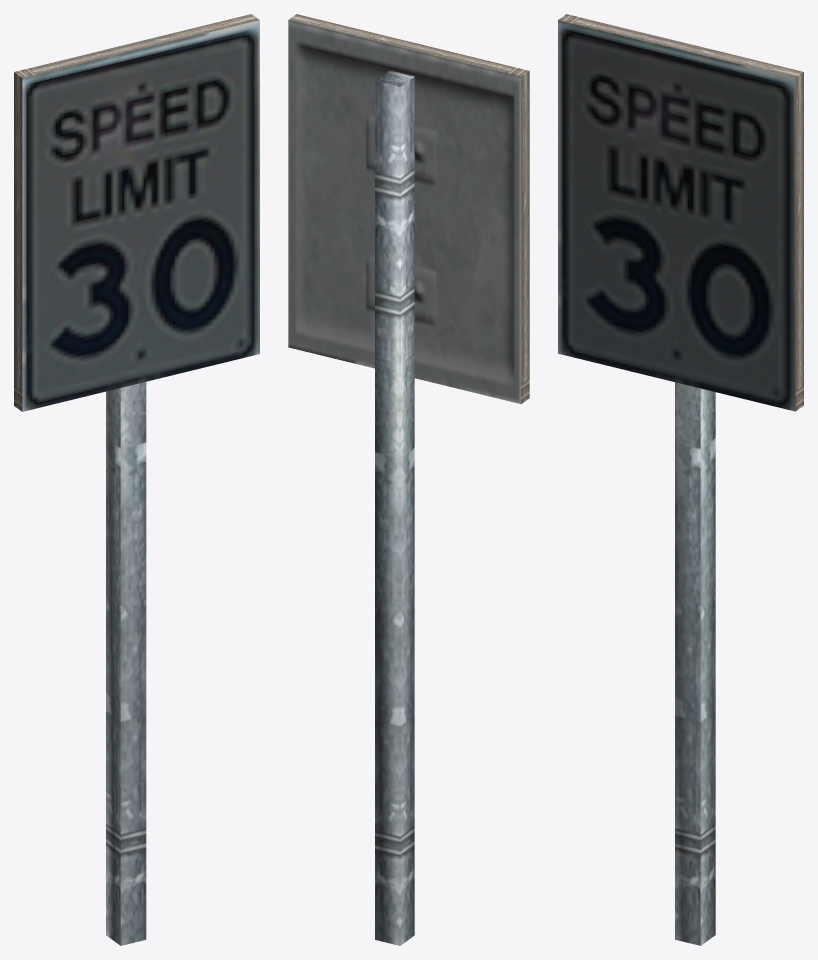
Rendered from Model_StreetSign_14.fbx.
The picture shows the model from 3 angles, left to right: view 1: azimuth 30°, elevation 25°; view 2: azimuth 150°, elevation 25°; view 3: azimuth 330°, elevation 25°; orthographic projection.
Parts seen in each view (by area): view 1: StreetSign_14; view 2: StreetSign_14; view 3: StreetSign_14.
Boxes of the visible parts, x1,y1,x2,y2 form: StreetSign_14: (14, 14, 259, 945); StreetSign_14: (288, 14, 529, 945); StreetSign_14: (558, 14, 803, 945).
Size of the model in its own units: 59.59 by 216 by 10.5.
